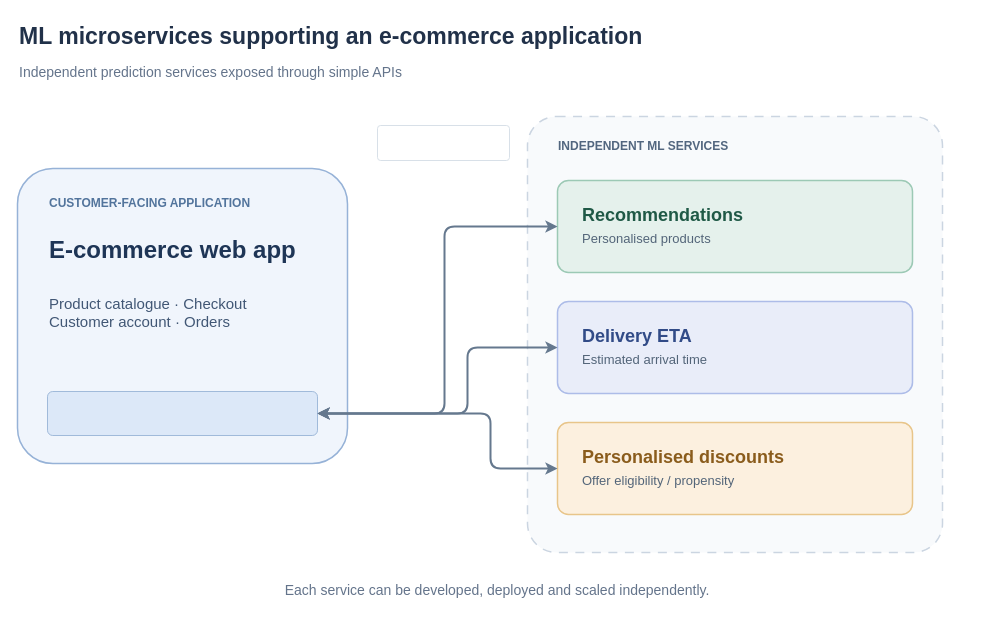
Some shapes in this 985 by 619 pixel diagram are drawn without their labels. The centre of each missing label's shape, as x and y in pixels:
"API client / application backend" belongs at point (182, 413).
"HTTP / JSON APIs" belongs at point (443, 142).
